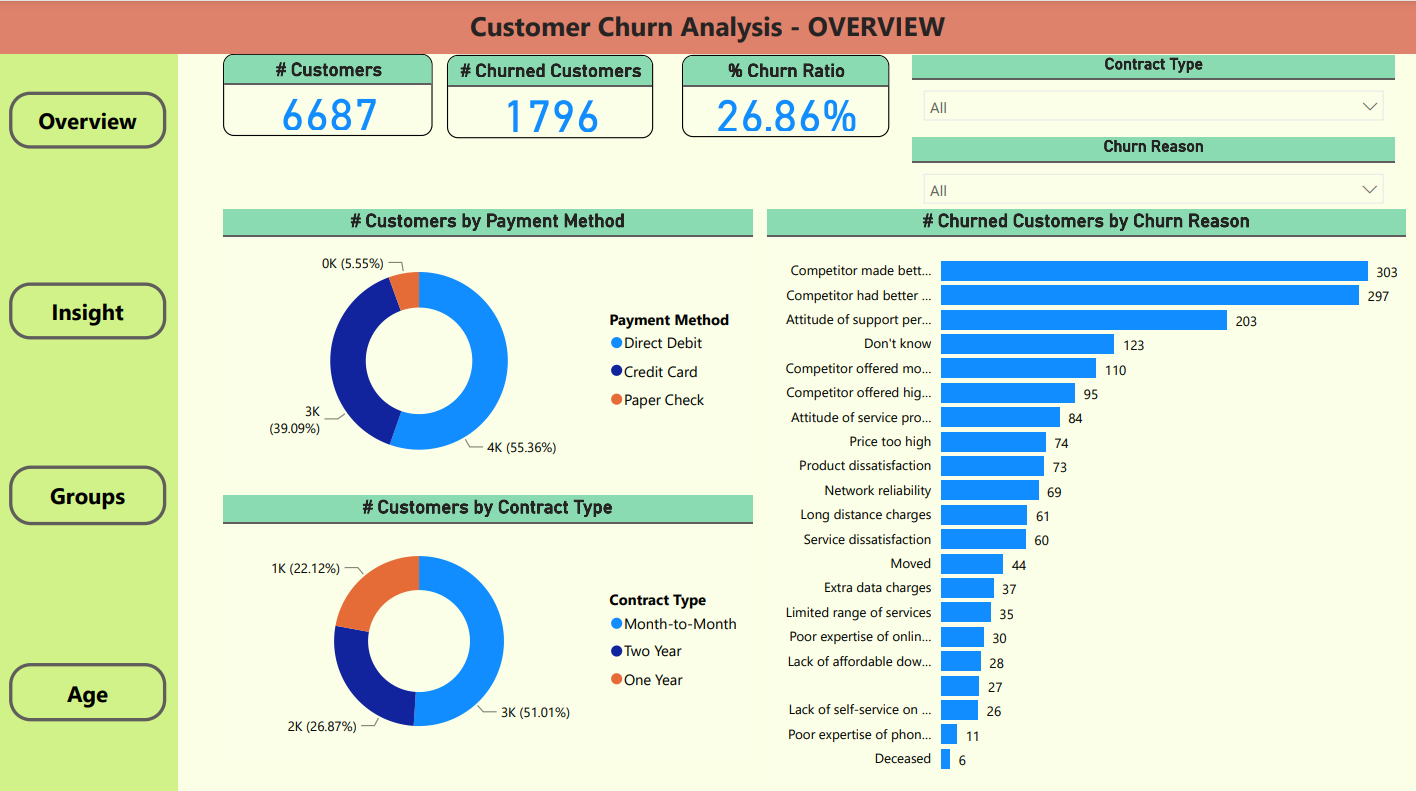

The page's visual inventory and layout, read from the dashboard file:
{"tool":"powerbi","page":{"name":"Overview","canvas":[1280,720],"ordinal":0},"visuals":[{"type":"card","title":"# Customers","fields":{"Values":["_DAX_Measures.# Customers"]},"box":[203.1,46.7,189.4,75.5],"z":0},{"type":"card","title":"# Churned Customers","fields":{"Values":["_DAX_Measures.# Churned Customers"]},"box":[405.2,48.2,185.7,76],"z":1000},{"type":"textbox","box":[0,0,1280.3,46.7],"z":2000},{"type":"donutChart","fields":{"Category":["Churn Data.Contract Type"],"Y":["_DAX_Measures.# Customers"]},"box":[202.6,446.2,477.6,236.4],"z":3000},{"type":"clusteredBarChart","fields":{"Y":["_DAX_Measures.# Churned Customers"],"Category":["Churn Data.Churn Reason"]},"box":[694.3,188.3,575.8,517.1],"z":4000},{"type":"donutChart","fields":{"Category":["Churn Data.Payment Method"],"Y":["_DAX_Measures.# Customers"]},"box":[202.6,188.1,477.6,247.2],"z":5000},{"type":"card","title":"% Churn Ratio","fields":{"Values":["_DAX_Measures.% Churn Ratio"]},"box":[617.5,48,186.6,75.5],"z":6000},{"type":"textbox","box":[0,46.7,161.9,673.8],"z":7000},{"type":"actionButton","box":[9.8,81.9,141.8,51.3],"z":8000},{"type":"actionButton","box":[9.8,254.3,141.8,51.3],"z":9000},{"type":"actionButton","box":[9.8,596.5,141.8,52.6],"z":10000},{"type":"slicer","title":"Contract Type","fields":{"Values":["Churn Data.Contract Type"]},"box":[824.9,48.2,435.4,73.6],"z":11000},{"type":"slicer","title":"Churn Reason","fields":{"Values":["Churn Data.Churn Reason"]},"box":[825.1,123.5,435.2,59.9],"z":12000},{"type":"actionButton","box":[9.8,419.3,141.8,53.8],"z":13000}]}

Visuals, with their boxes in screenshot pixels (x1, y1, x2, y2), scaled from the page's 1280x720 canvas onto the 1416x791 screenshot:
"# Customers" card: bbox=[225, 51, 434, 134]
"# Churned Customers" card: bbox=[448, 53, 654, 136]
textbox: bbox=[0, 0, 1415, 51]
donutChart - Churn Data.Contract Type x _DAX_Measures.# Customers: bbox=[224, 490, 752, 750]
clusteredBarChart - _DAX_Measures.# Churned Customers x Churn Data.Churn Reason: bbox=[768, 207, 1405, 775]
donutChart - Churn Data.Payment Method x _DAX_Measures.# Customers: bbox=[224, 207, 752, 478]
"% Churn Ratio" card: bbox=[683, 53, 890, 136]
textbox: bbox=[0, 51, 179, 790]
actionButton: bbox=[11, 90, 168, 146]
actionButton: bbox=[11, 279, 168, 336]
actionButton: bbox=[11, 655, 168, 713]
"Contract Type" slicer: bbox=[913, 53, 1394, 134]
"Churn Reason" slicer: bbox=[913, 136, 1394, 201]
actionButton: bbox=[11, 461, 168, 520]
